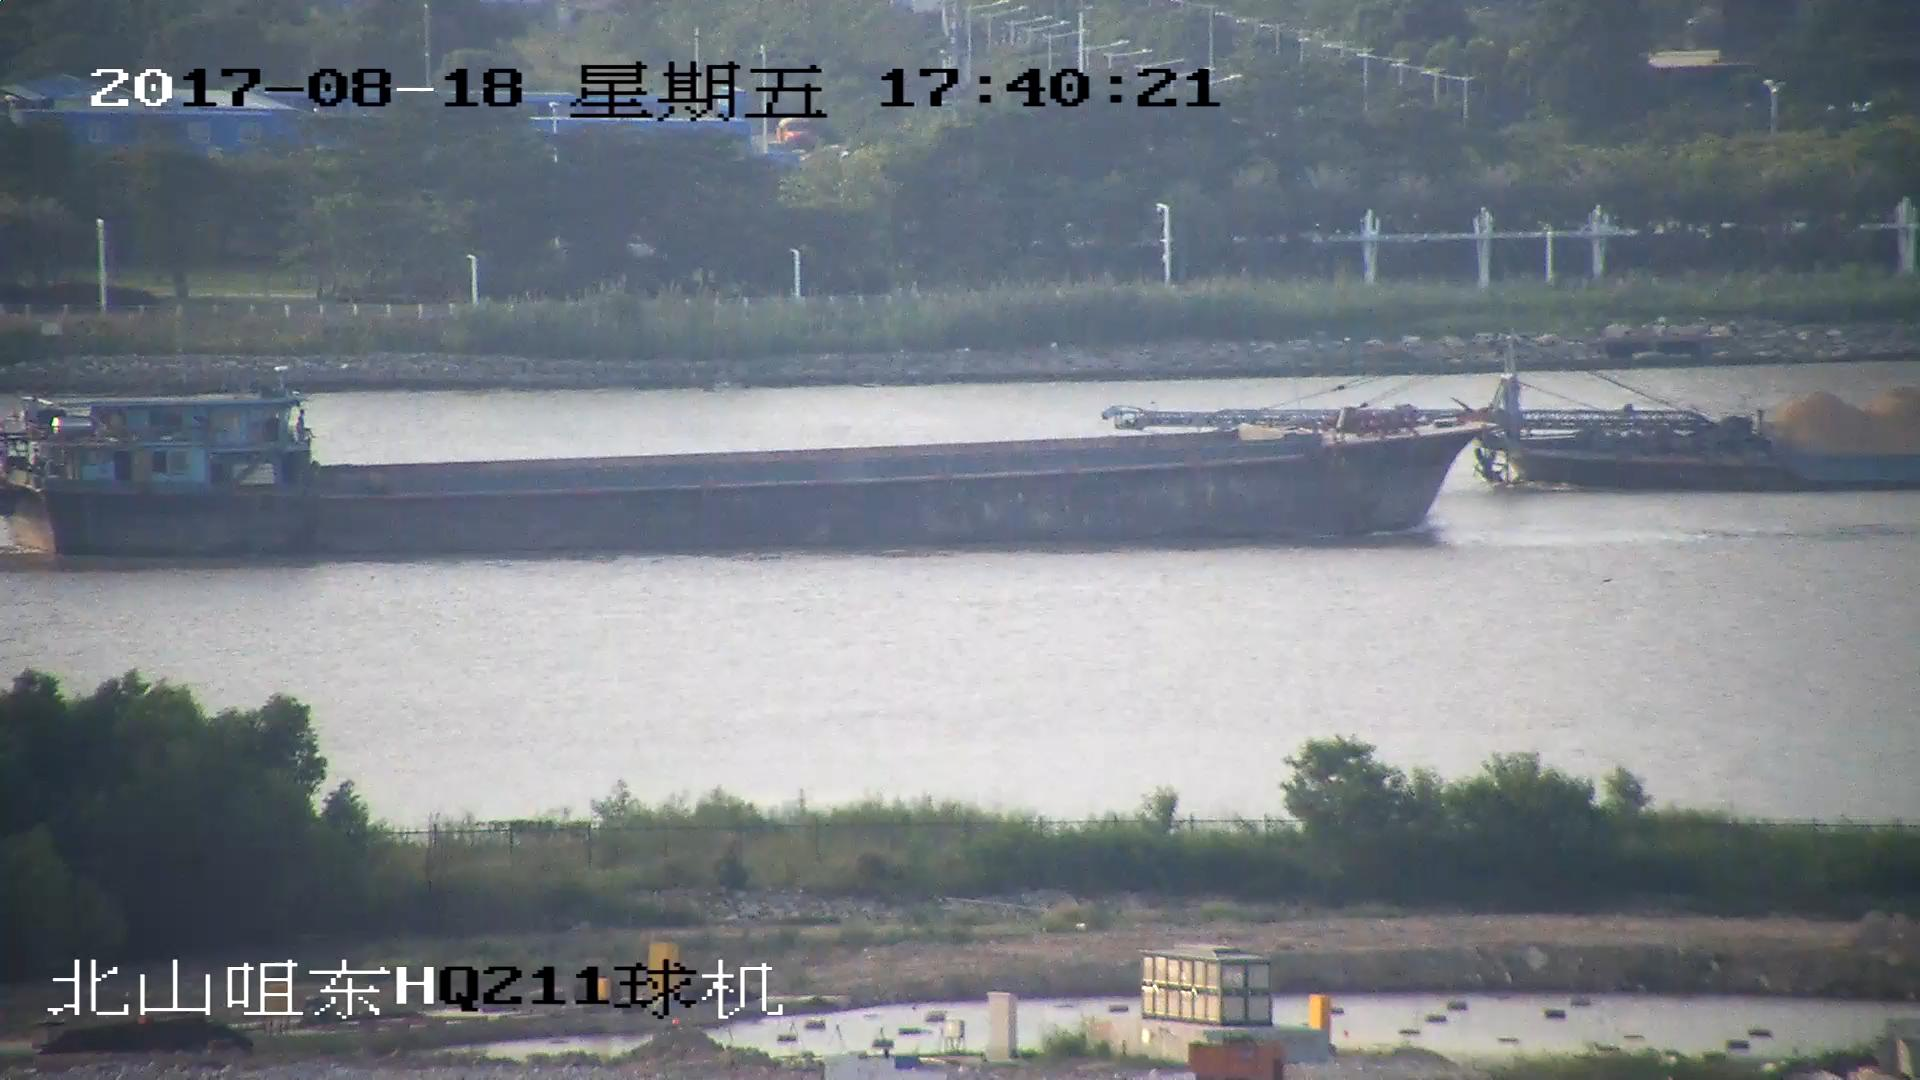bulk cargo carrier: (1, 396, 1490, 560)
ore carrier: (1110, 345, 1920, 492)
